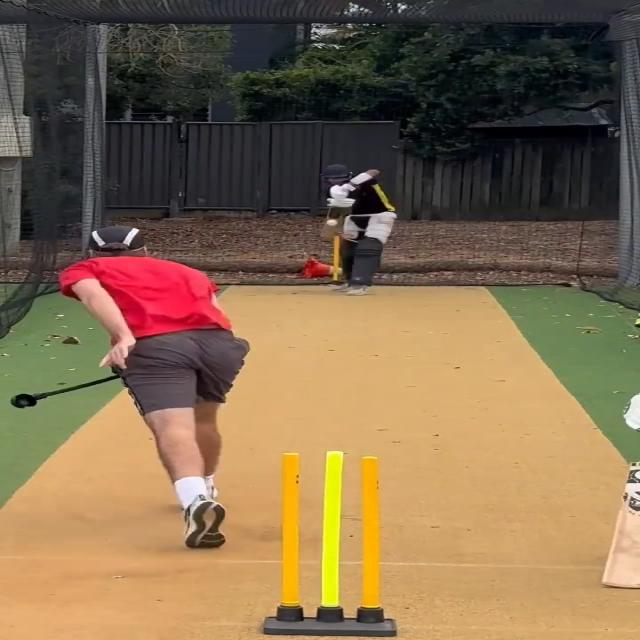ball: (324, 218, 339, 227)
stump: (256, 447, 394, 639)
